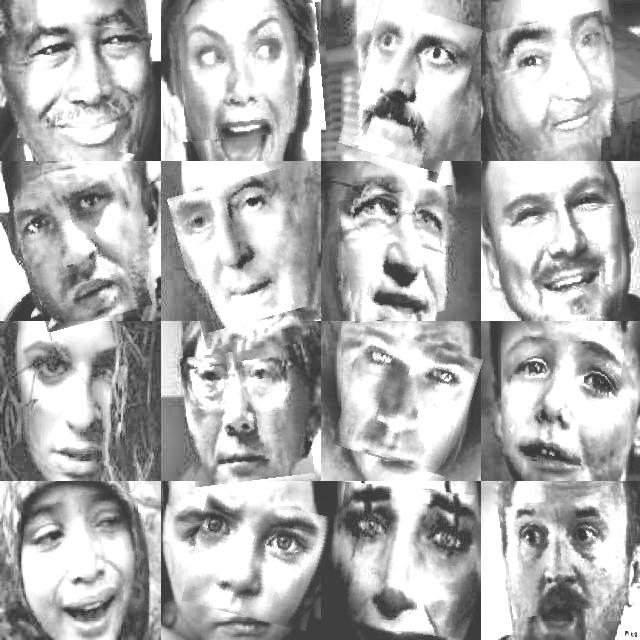fear: (346, 5, 472, 177), (334, 485, 472, 635), (502, 496, 624, 616)
happy: (164, 6, 330, 140), (494, 168, 622, 316), (492, 15, 620, 151), (21, 21, 149, 151)
neutral: (176, 175, 314, 343), (340, 333, 476, 470), (21, 178, 145, 327), (187, 494, 328, 625), (184, 348, 312, 490), (342, 188, 466, 320), (28, 341, 139, 466)
sad: (505, 339, 621, 467), (25, 494, 147, 610)
